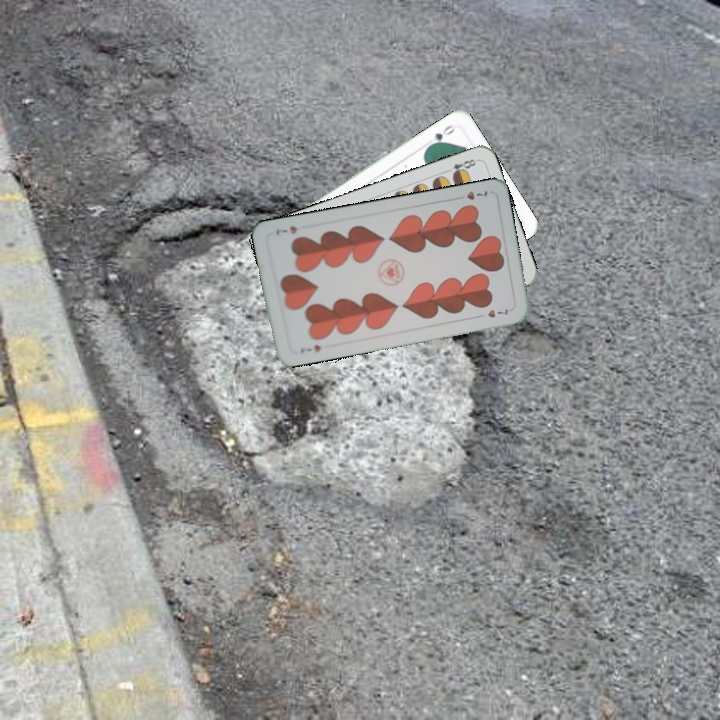E8: (441, 155, 478, 179)
GO: (424, 121, 458, 150)
H7: (452, 186, 490, 203), (296, 341, 324, 356)
